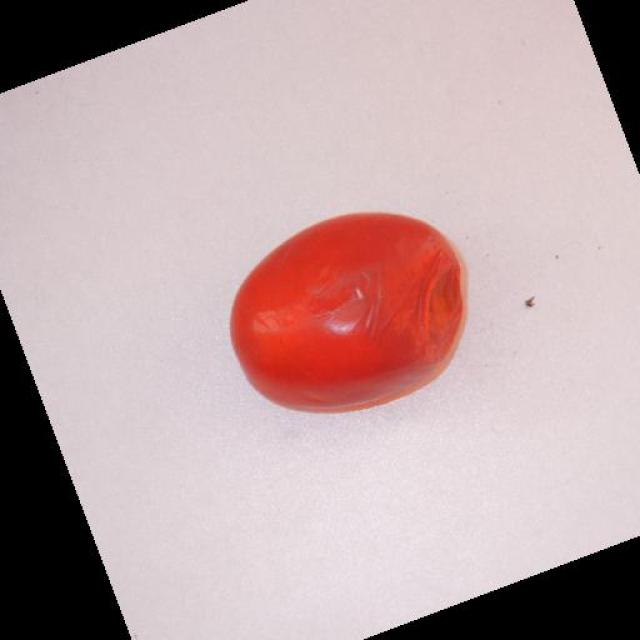Stale_tomato: (234, 231, 488, 400)
